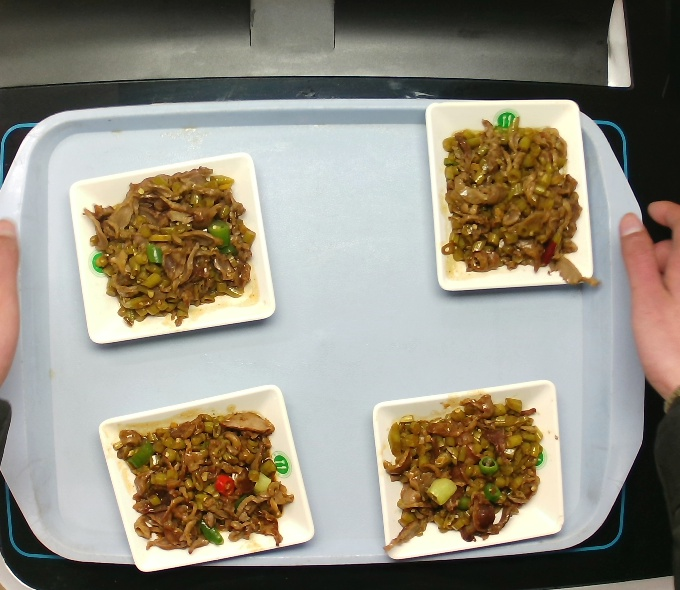wcq-JiZhen: (83, 164, 256, 327), (111, 409, 294, 553), (387, 394, 547, 541), (440, 118, 580, 275)
